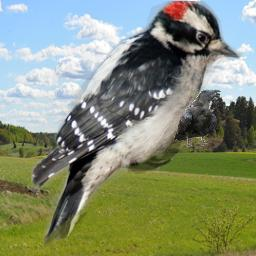Crow: (173, 89, 221, 147)
Woodpecker: (31, 1, 248, 250)
